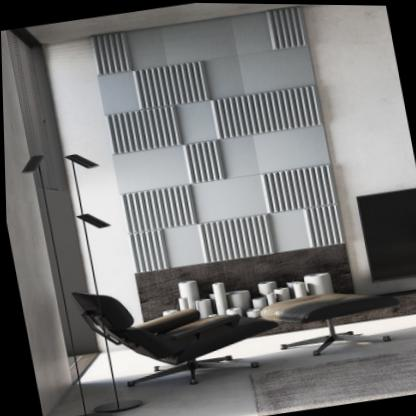Wall Panel: (81, 1, 358, 302)
